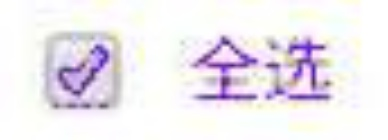CheckBox: (1, 1, 387, 139)
